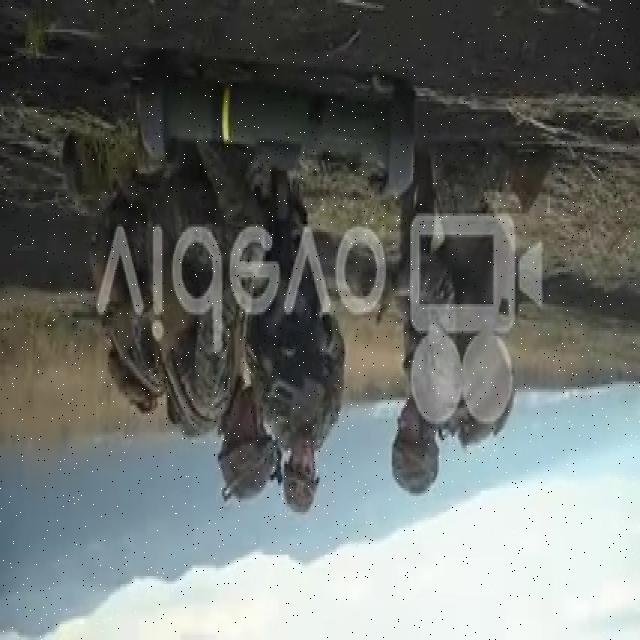bazooka: (131, 67, 426, 199)
